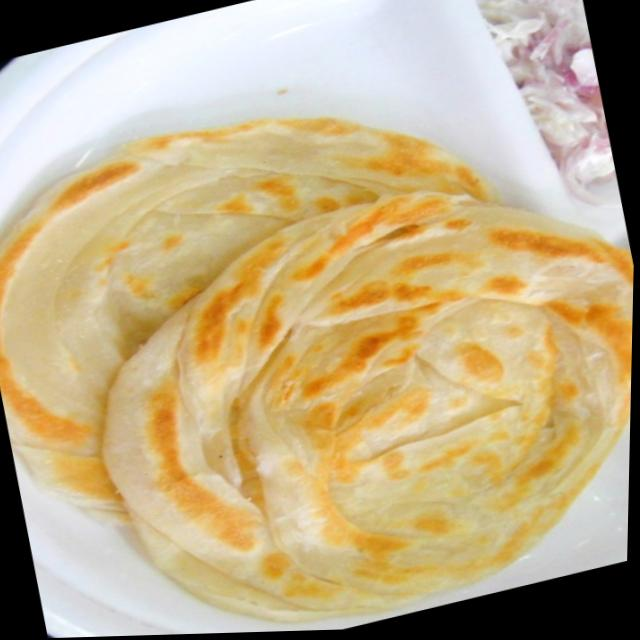PAROTTA: (0, 114, 633, 623)
